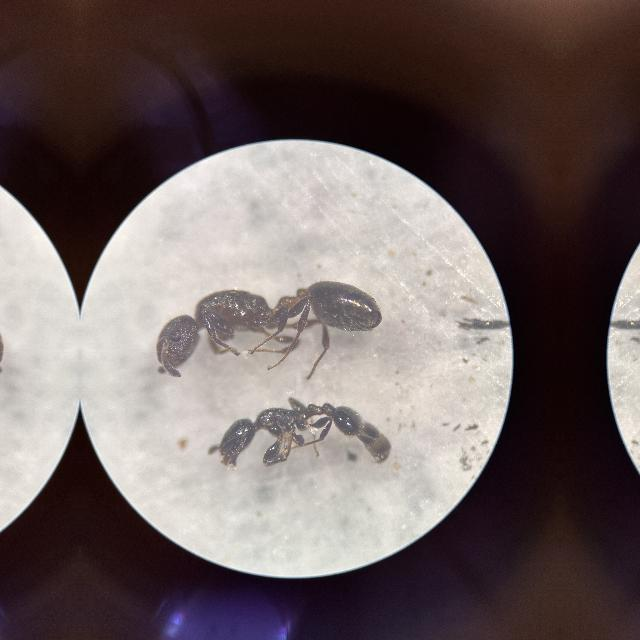Temnothorax: (146, 252, 390, 384), (203, 370, 403, 488)
